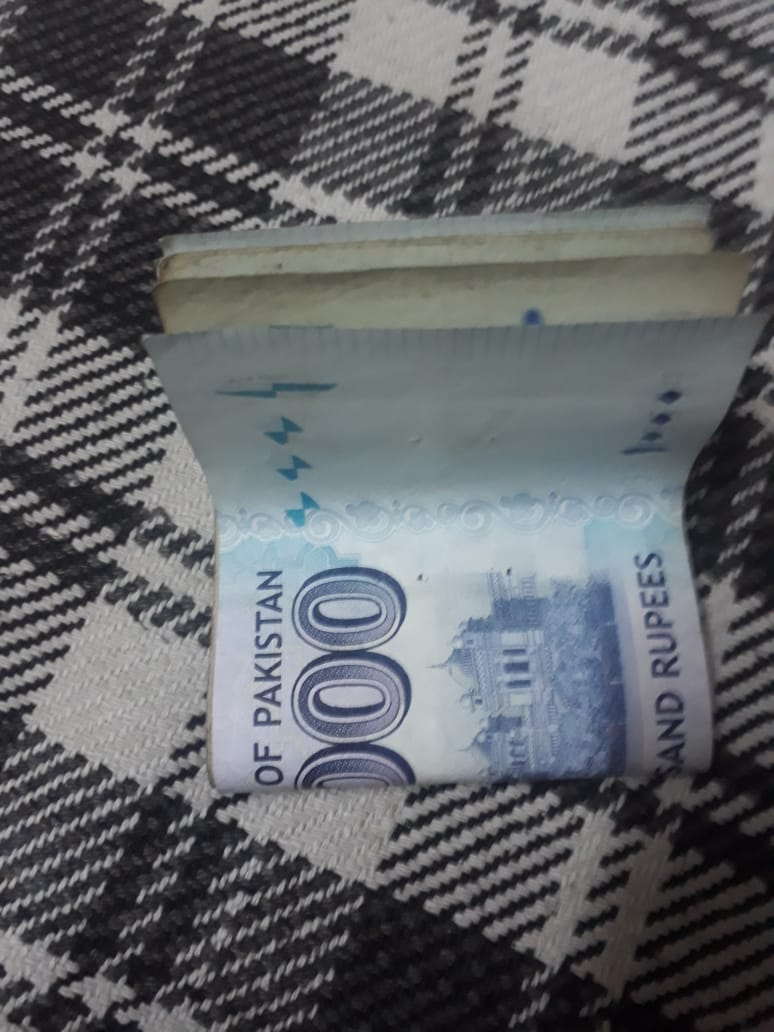1000 rupee: (117, 160, 743, 856)
